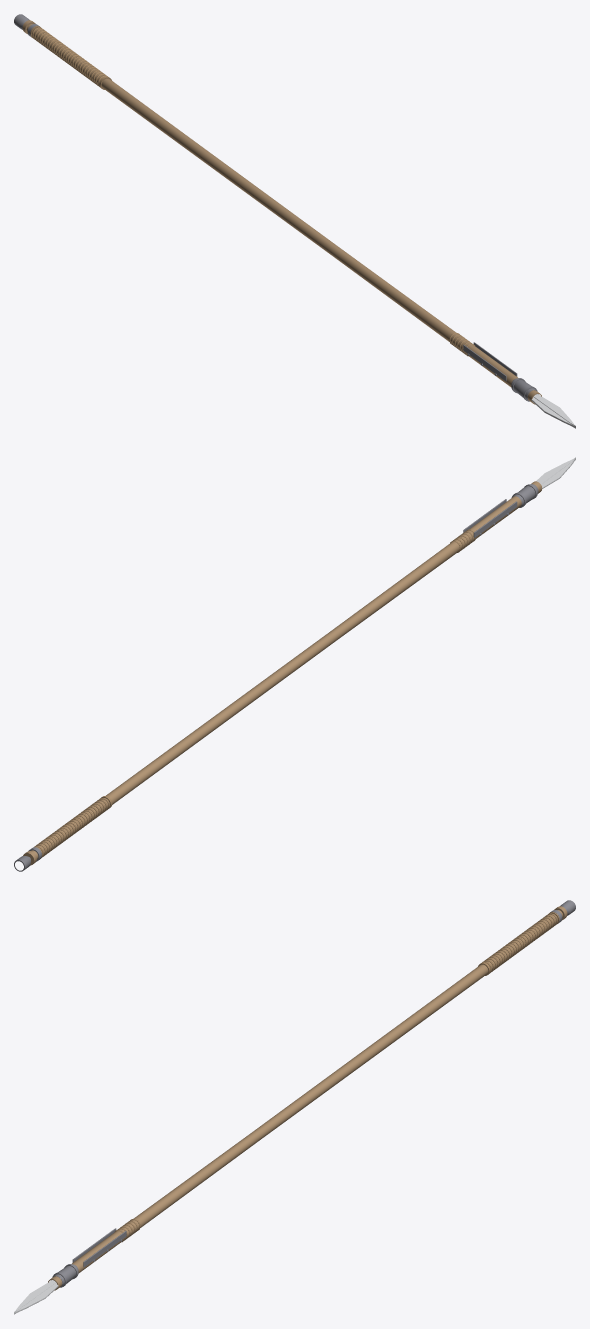
The model's file is pike.glb.
The picture shows the model from 3 angles, top to bottom: view 1: azimuth 30°, elevation 25°; view 2: azimuth 150°, elevation 25°; view 3: azimuth 330°, elevation 25°; orthographic projection.
Parts seen in each view (by area): view 1: pike; view 2: pike; view 3: pike.
Boxes of the visible parts, x1,y1,x2,y2 form: pike: (14,14,575,428); pike: (14,457,575,871); pike: (14,900,575,1314).
Size of the model in its own units: 0.046 by 0.0403 by 2.86.
